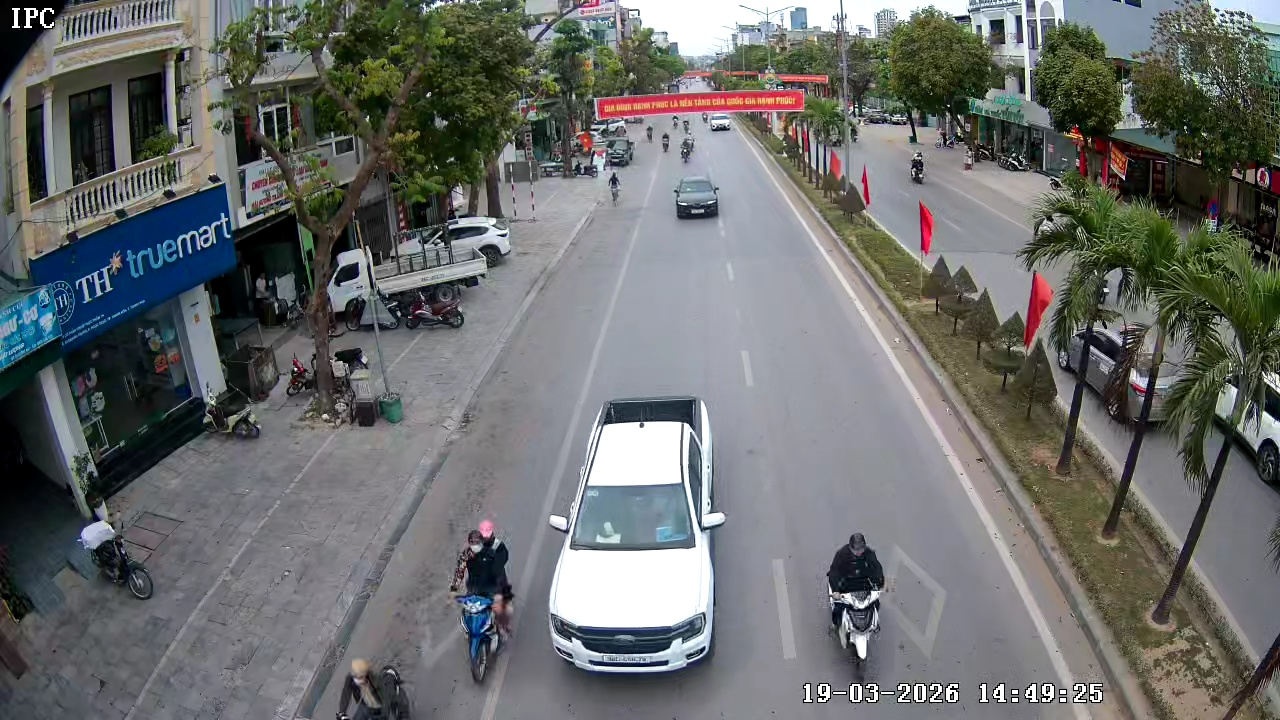car: (546, 391, 729, 674), (672, 170, 722, 221), (709, 111, 732, 130)
exception: (334, 655, 416, 719)
motorbike: (821, 529, 890, 677), (453, 529, 518, 685), (77, 512, 156, 600), (908, 146, 927, 185), (606, 167, 621, 205), (678, 131, 695, 163), (659, 129, 673, 151)
